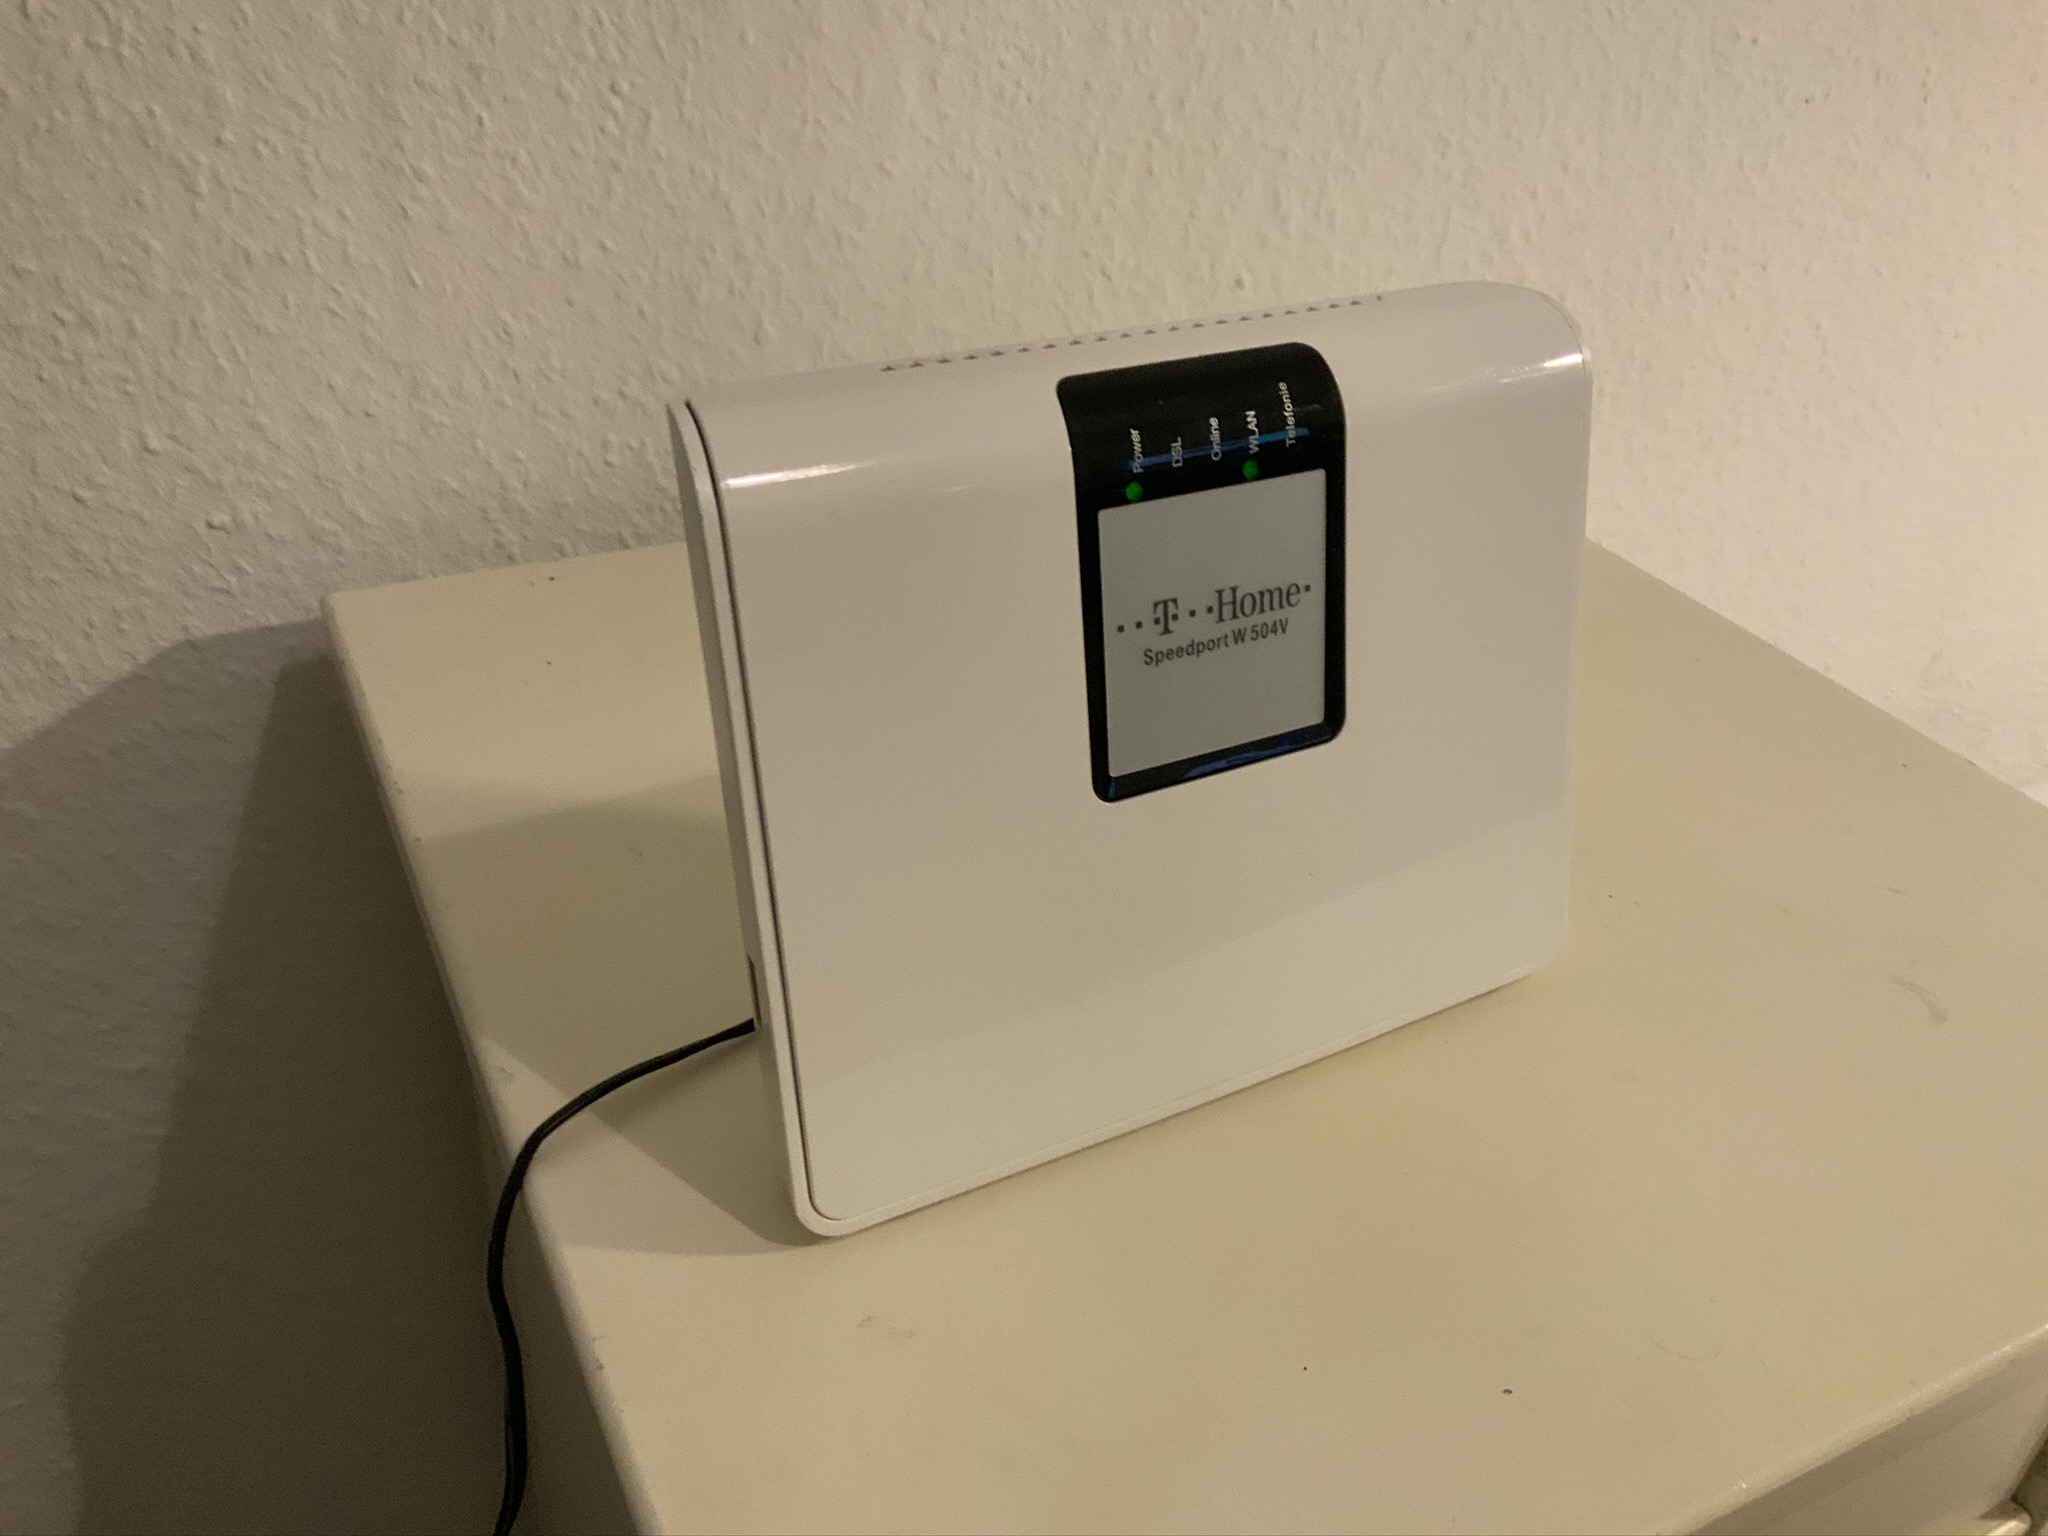Router2: (651, 269, 1611, 1255)
